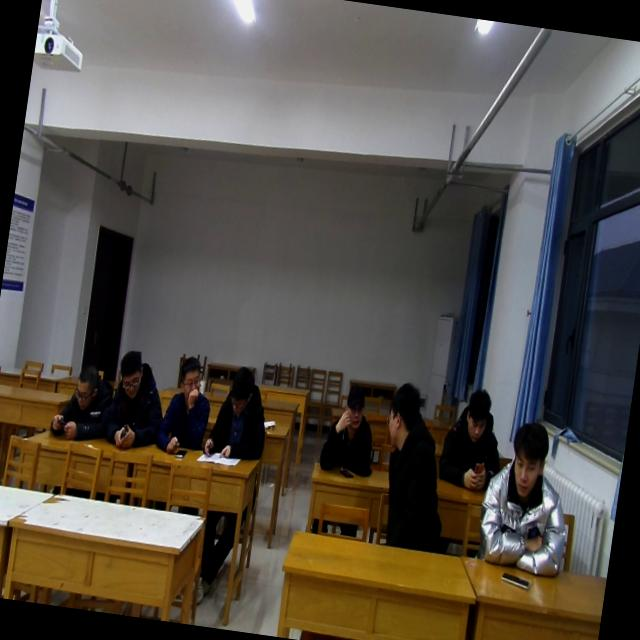bow: (48, 359, 120, 446)
down: (459, 386, 496, 452), (115, 342, 152, 402), (223, 362, 257, 422), (69, 360, 103, 415)
lookup: (502, 416, 553, 500), (337, 382, 371, 436)
sit: (472, 417, 582, 580), (369, 381, 462, 552), (309, 380, 382, 542), (436, 384, 511, 491), (98, 346, 172, 448), (203, 363, 276, 465), (154, 352, 218, 456)
